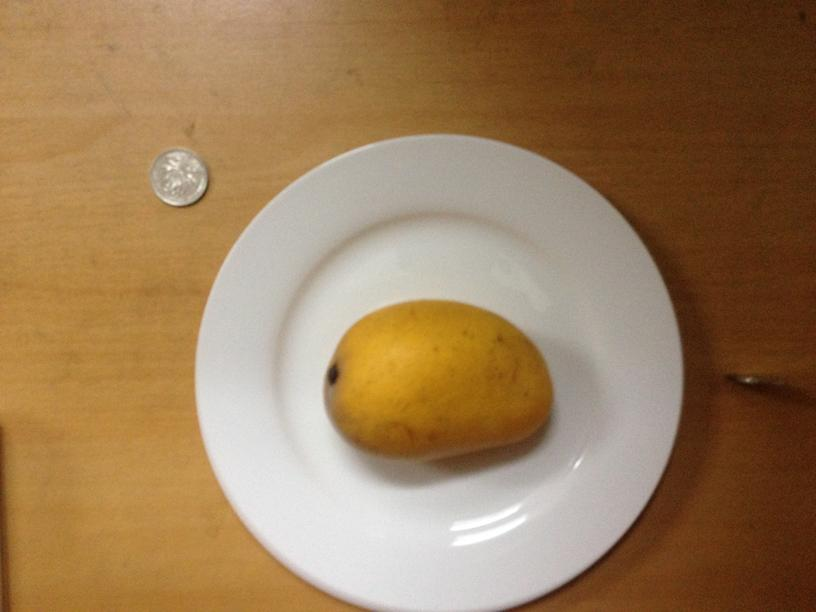coin: (150, 147, 210, 207)
mango: (320, 298, 554, 457)
